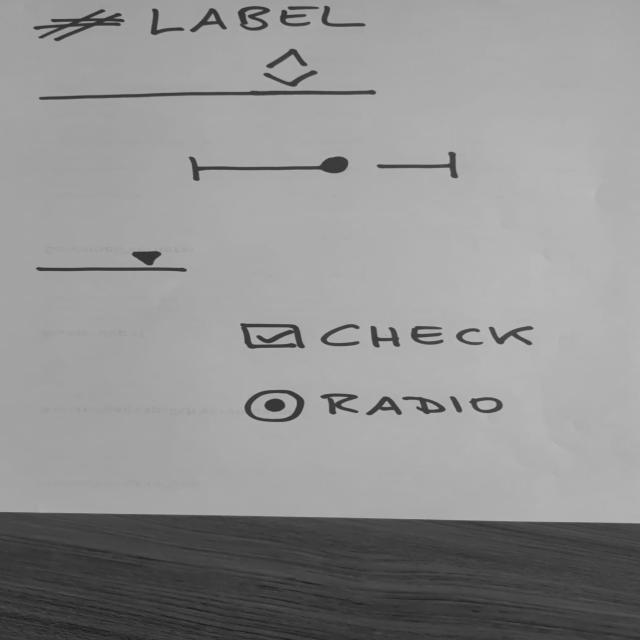checkbox: (235, 320, 549, 354)
label: (30, 2, 374, 44)
number-input: (29, 46, 383, 104)
radio: (240, 388, 513, 425)
select: (33, 249, 195, 277)
slider: (184, 150, 468, 184)
